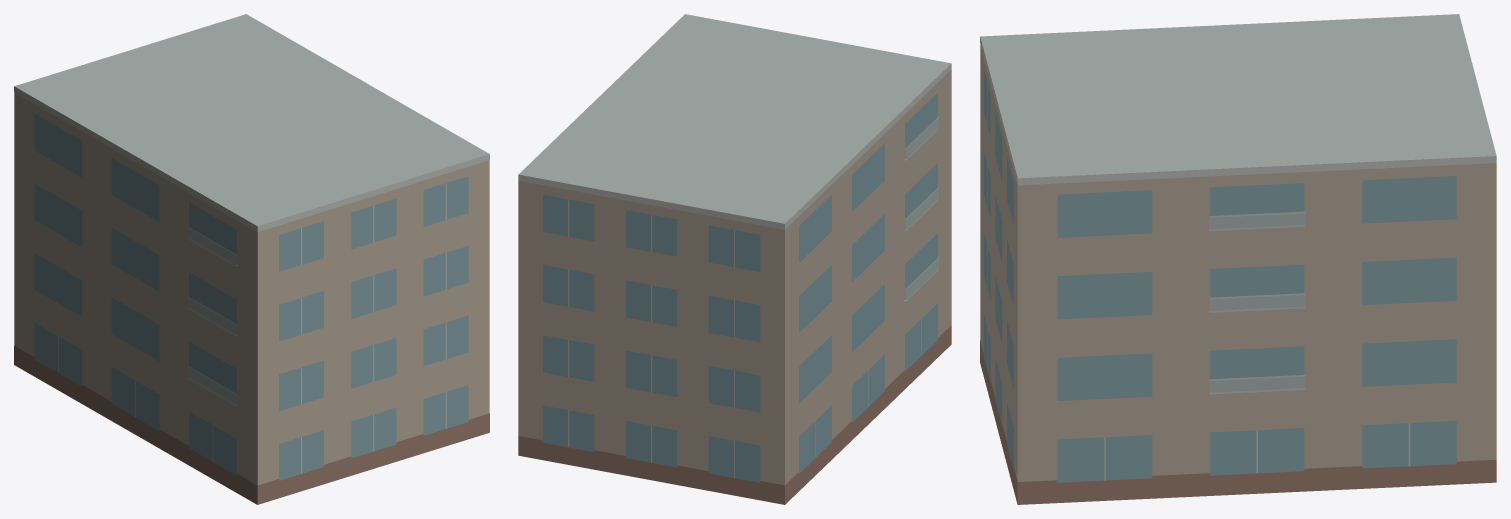
Rendered from survey-upis-32716261.glb.
3 renders of one model, left to right at view 1: azimuth 30°, elevation 25°; view 2: azimuth 150°, elevation 25°; view 3: azimuth 270°, elevation 25°, orthographic. The views are drawn at different scales.
Parts seen in each view (by area): view 1: survey-upis-32716261.tmp; view 2: survey-upis-32716261.tmp; view 3: survey-upis-32716261.tmp.
Part boxes in pixels (x1,y1,x2,y2): survey-upis-32716261.tmp: [14, 14, 489, 504]; survey-upis-32716261.tmp: [518, 14, 951, 504]; survey-upis-32716261.tmp: [980, 14, 1496, 504].
Size of the model in its own units: 12.21 by 11.3 by 16.21.
